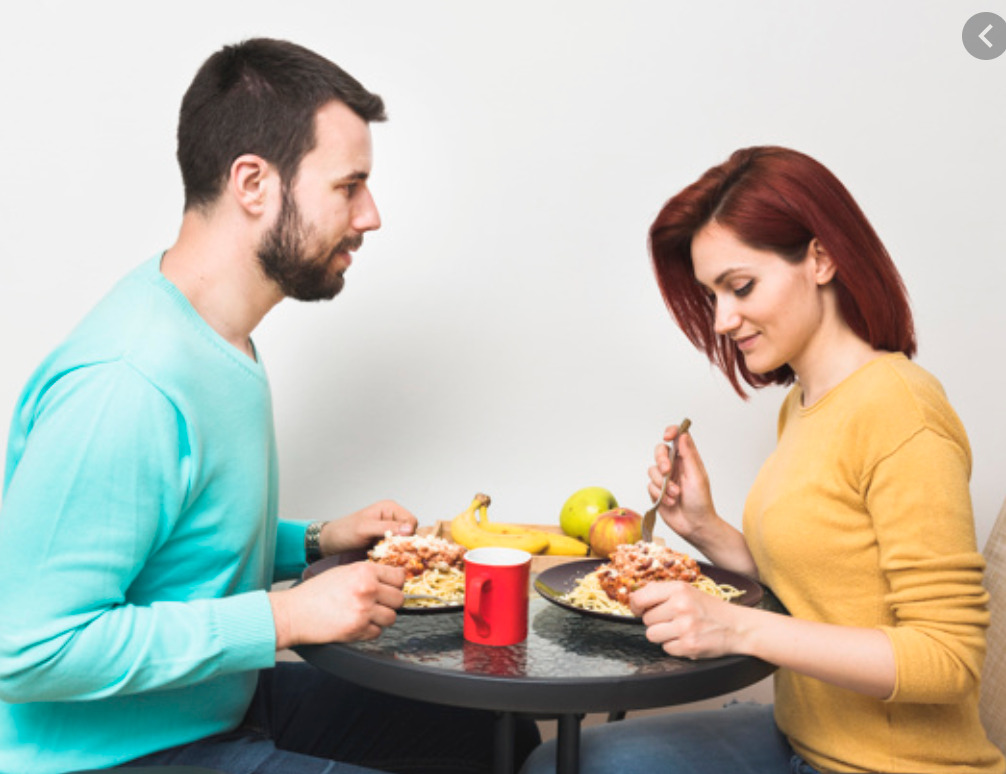Bad: (3, 38, 1005, 551)
